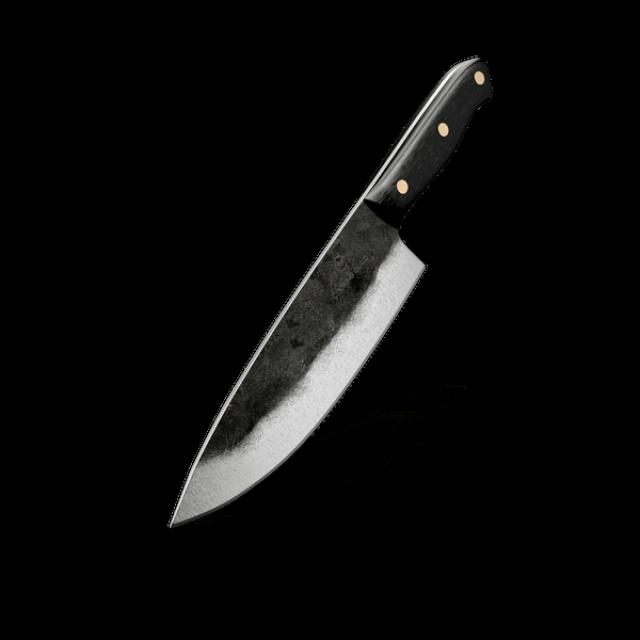Knife: (166, 54, 493, 528)
